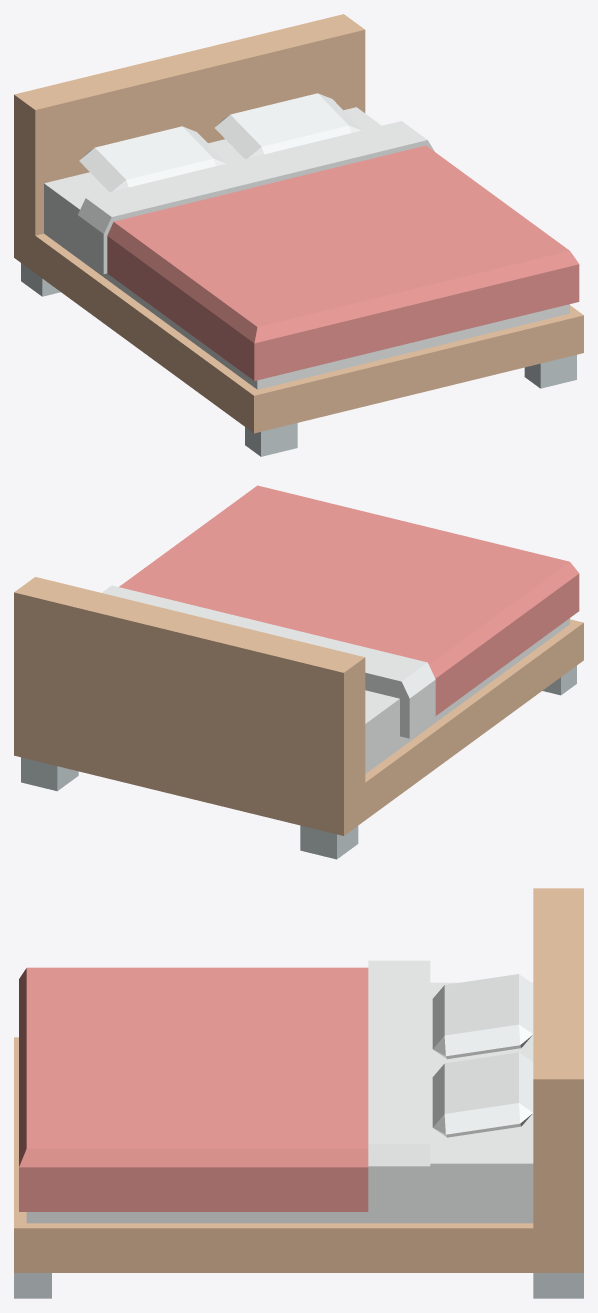
The model's file is kenney-bedDouble.glb.
3 renders of one model, top to bottom at view 1: azimuth 30°, elevation 25°; view 2: azimuth 150°, elevation 25°; view 3: azimuth 270°, elevation 25°, orthographic. The views are drawn at different scales.
Parts seen in each view (by area): view 1: cover, Mesh bedDouble, pillowLeft, pillowRight; view 2: Mesh bedDouble, cover; view 3: cover, Mesh bedDouble, pillowRight, pillowLeft.
Boxes of the visible parts, x1=… form: cover: x1=77, y1=121, x2=579, y2=380; Mesh bedDouble: x1=14, y1=14, x2=583, y2=456; pillowLeft: x1=79, y1=126, x2=227, y2=191; pillowRight: x1=215, y1=93, x2=362, y2=158; Mesh bedDouble: x1=14, y1=577, x2=583, y2=859; cover: x1=102, y1=485, x2=579, y2=738; cover: x1=19, y1=960, x2=430, y2=1213; Mesh bedDouble: x1=14, y1=888, x2=583, y2=1298; pillowRight: x1=432, y1=1052, x2=533, y2=1137; pillowLeft: x1=432, y1=974, x2=533, y2=1059.
Bounding box in the file's own units: 1.66 × 0.8999 × 2.08.
